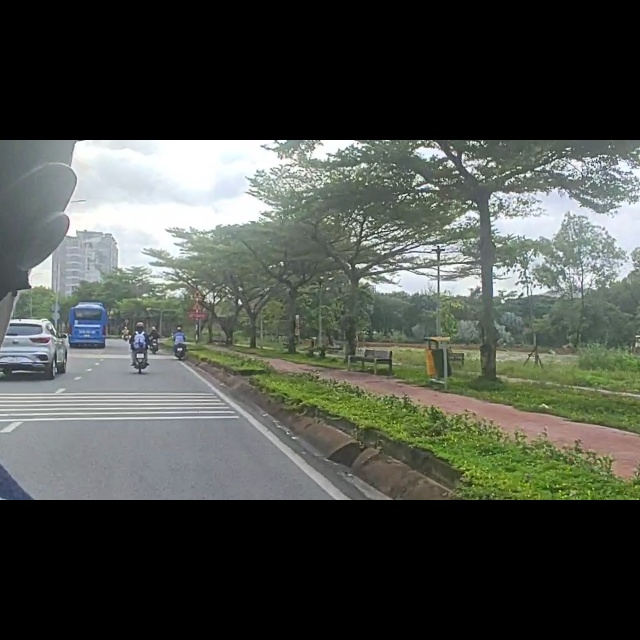bien_nguy_hiem: (193, 288, 203, 305)
